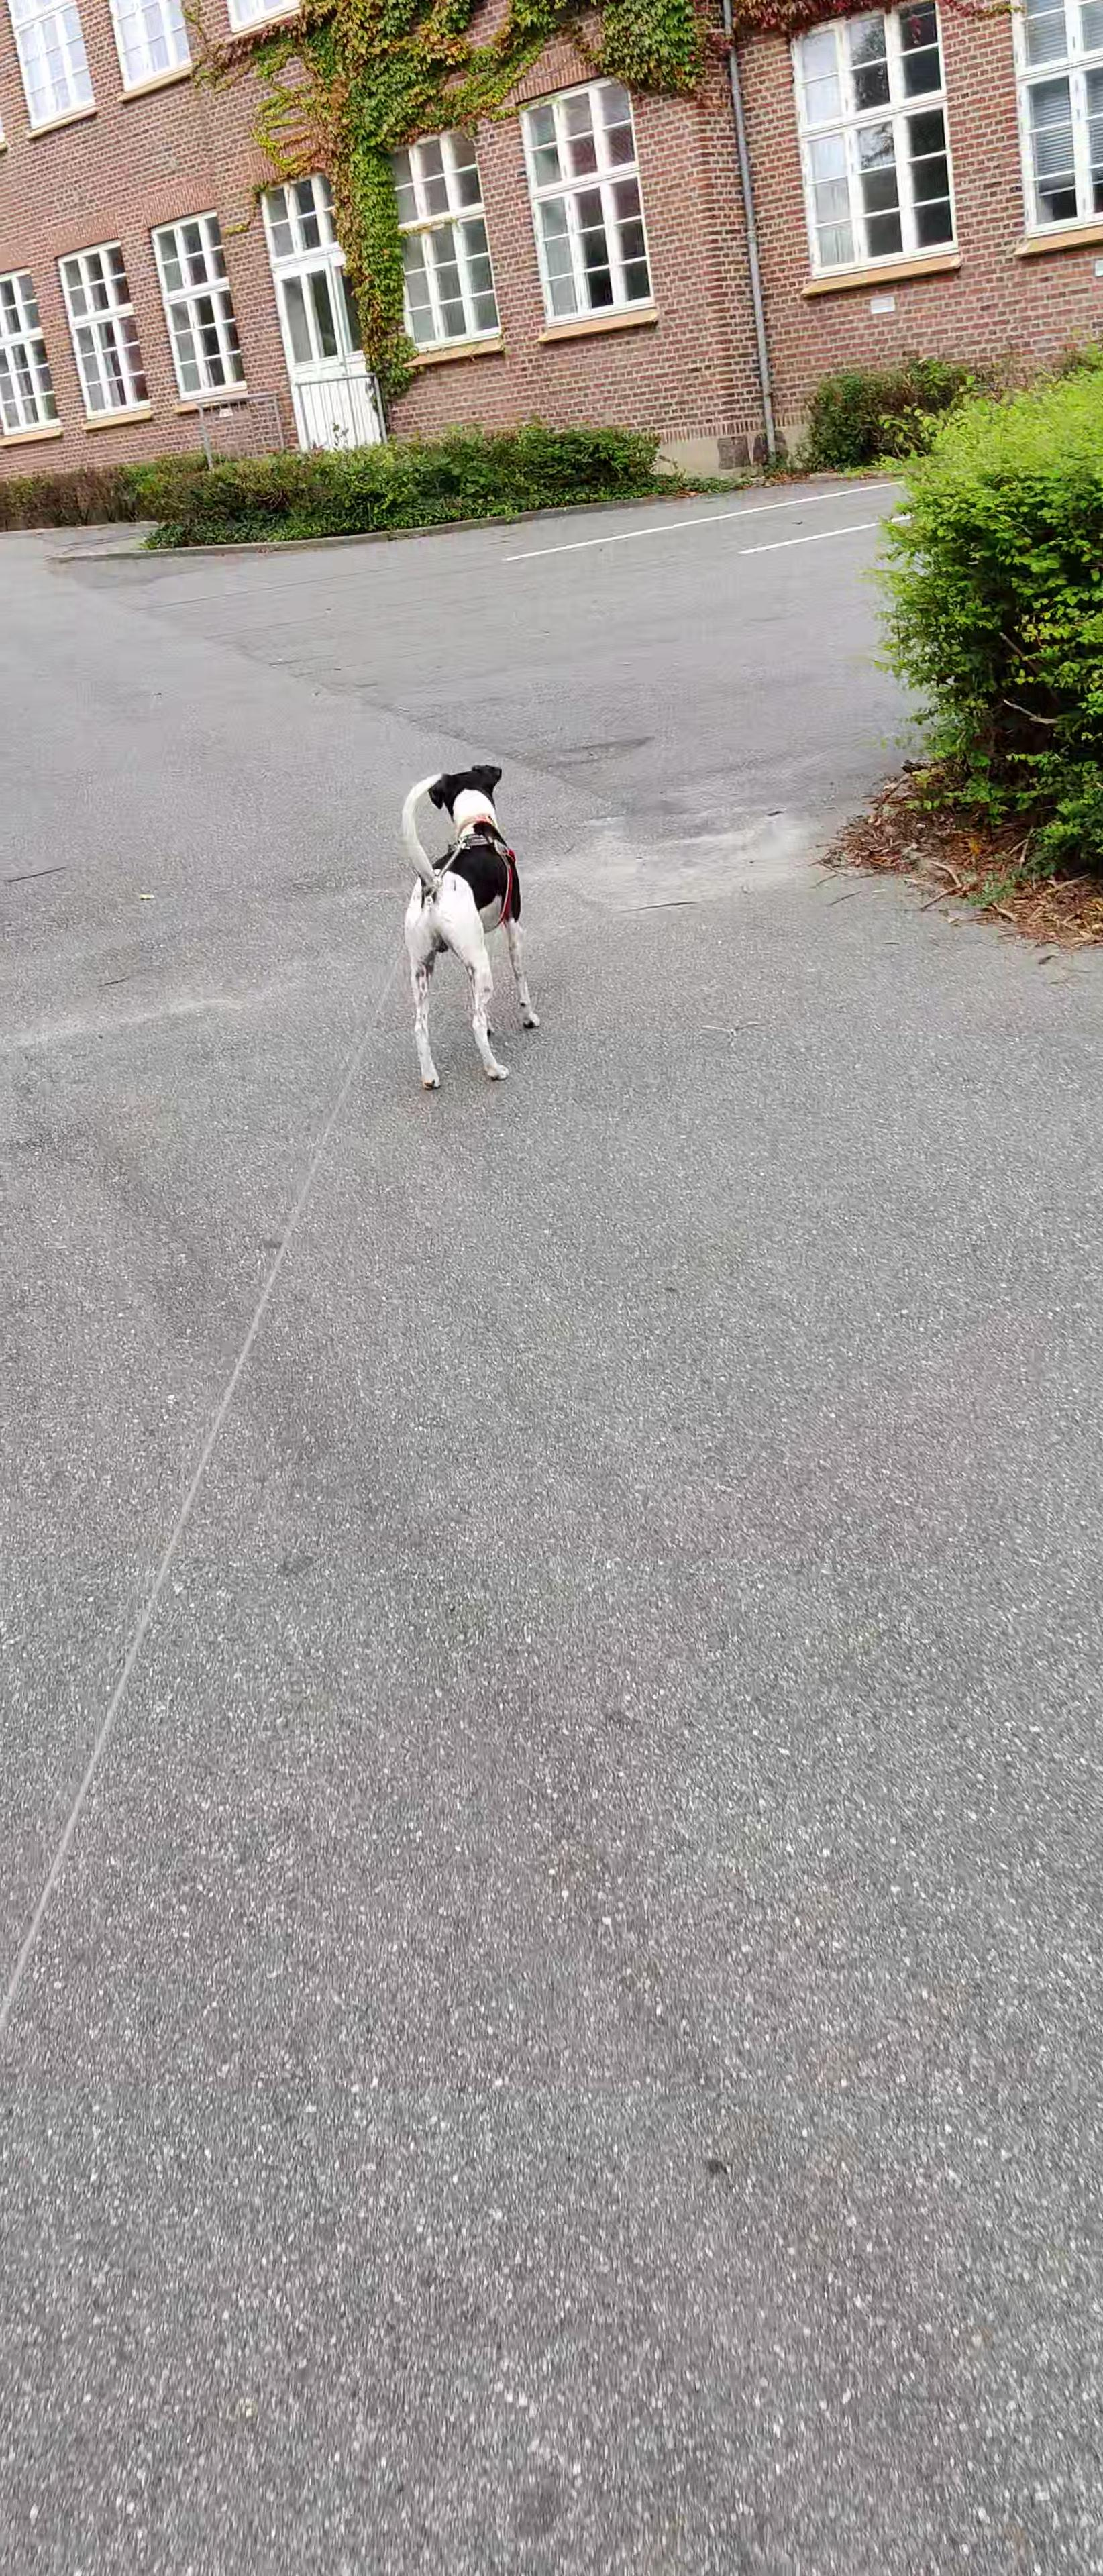Dog: (383, 751, 546, 1106)
